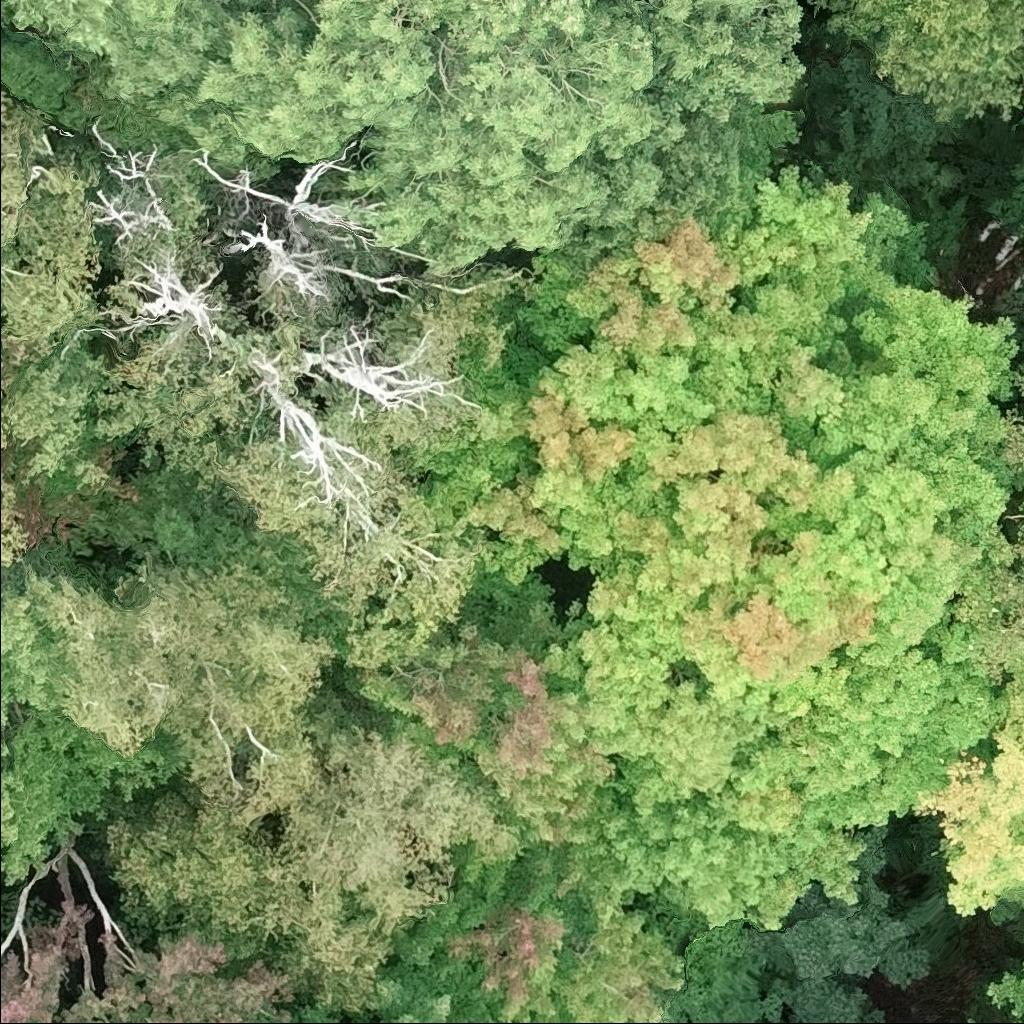crown: (417, 158, 1022, 935), (0, 0, 807, 270), (104, 687, 528, 1012), (18, 506, 348, 827), (378, 596, 617, 847), (0, 561, 184, 885), (0, 82, 145, 493), (388, 840, 690, 1023), (0, 900, 297, 1023), (245, 347, 385, 545), (808, 0, 1023, 125), (183, 132, 388, 247), (912, 721, 1023, 922), (284, 326, 464, 428), (60, 252, 224, 363), (230, 209, 417, 304), (949, 520, 1023, 728), (86, 126, 177, 253), (0, 469, 33, 568), (984, 960, 1023, 1023), (997, 409, 1023, 483), (1013, 348, 1023, 400), (964, 1016, 989, 1023), (1017, 500, 1023, 514)
